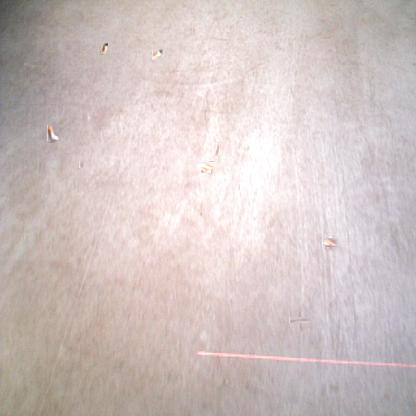dirty: (47, 125, 60, 141), (200, 158, 213, 172), (324, 236, 336, 249), (152, 48, 163, 61), (100, 42, 108, 54)
mark: (293, 314, 307, 327), (215, 142, 219, 156), (79, 160, 84, 168)
